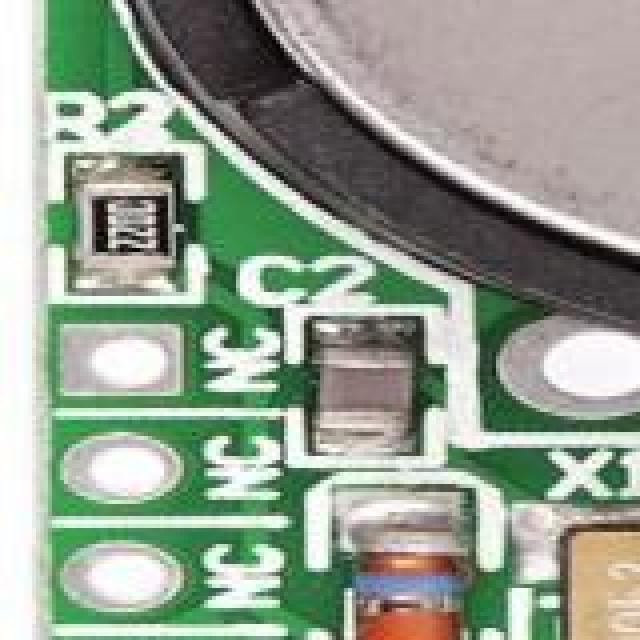battery: (252, 0, 640, 352)
capacitor: (320, 344, 466, 440)
clock: (548, 528, 640, 640)
diode: (332, 504, 480, 640)
resistor: (76, 184, 192, 290)
